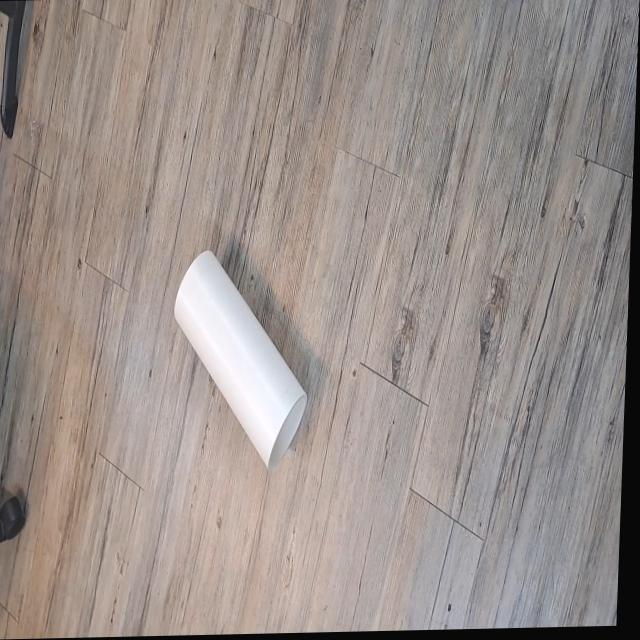CORAL: (147, 230, 331, 488)
